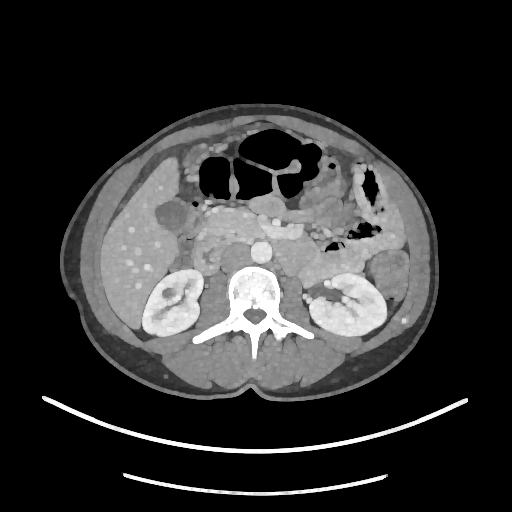Lesion: (156, 283, 179, 302)
